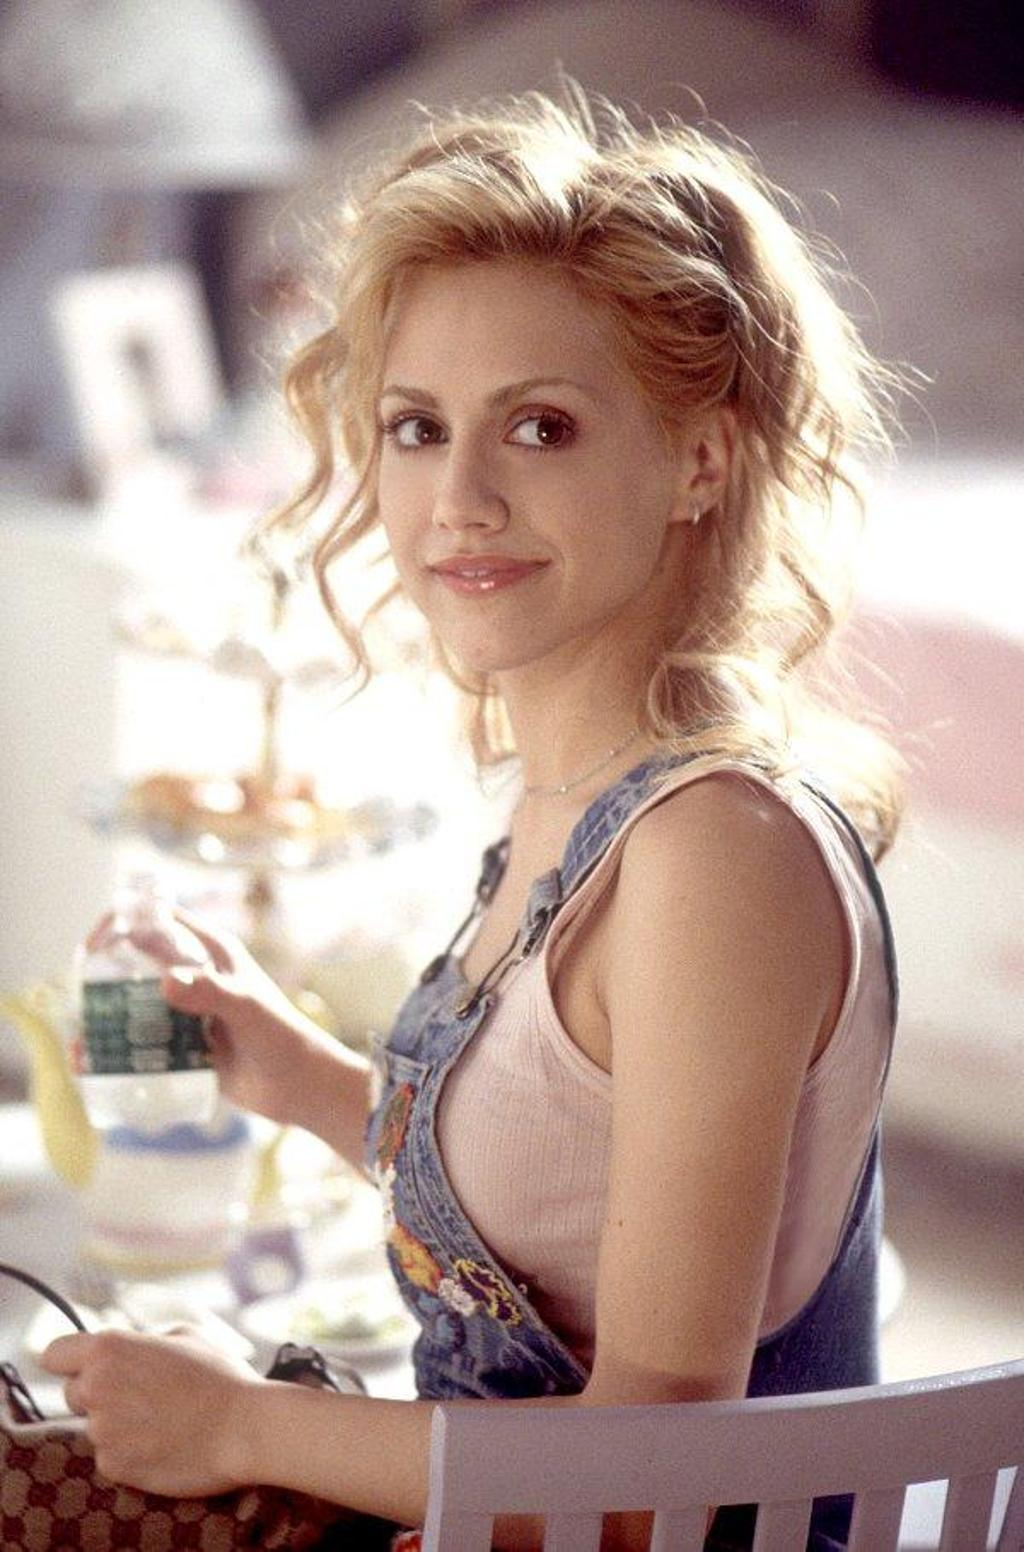face: (383, 274, 644, 653)
